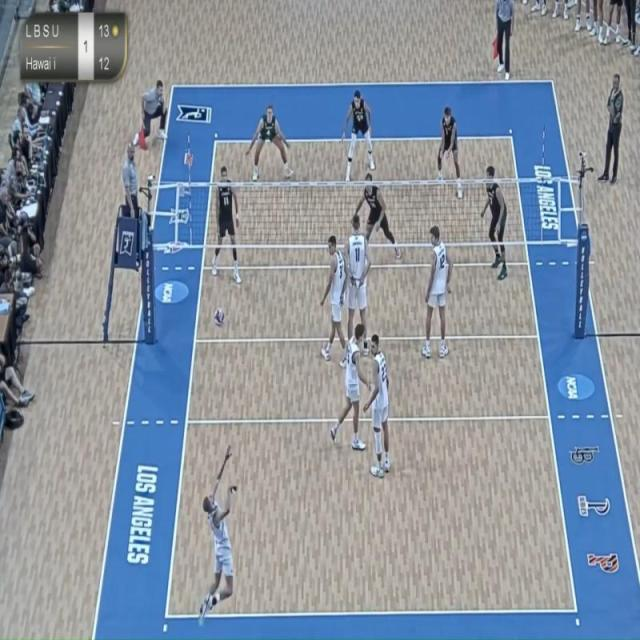volleyball: (186, 272, 199, 294)
